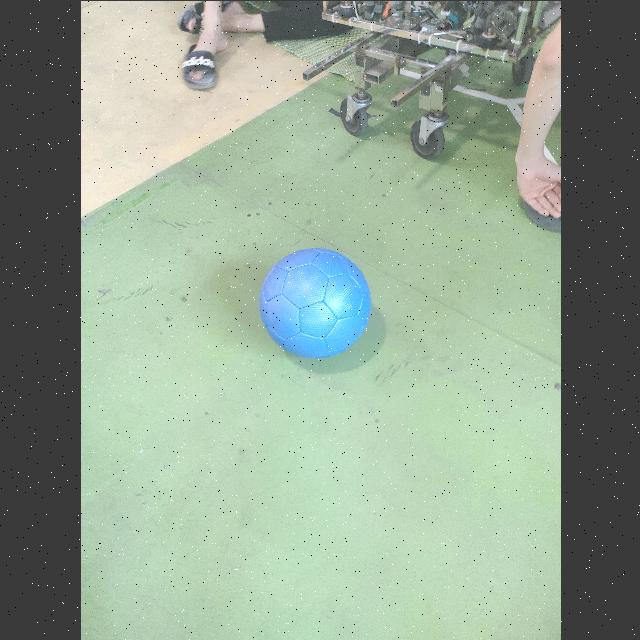B: (258, 247, 372, 361)
